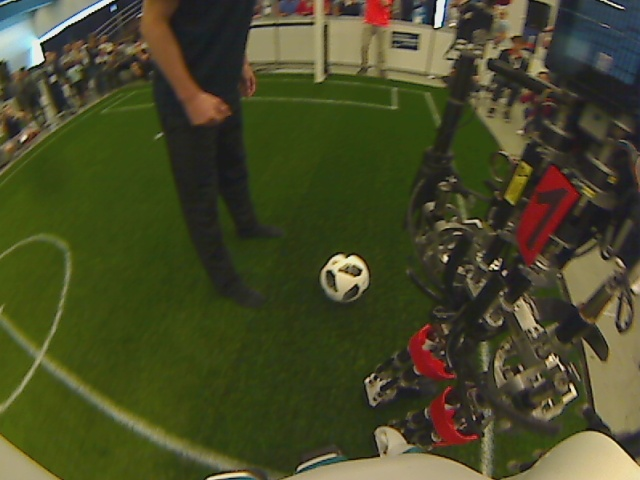ball: (319, 250, 370, 304)
